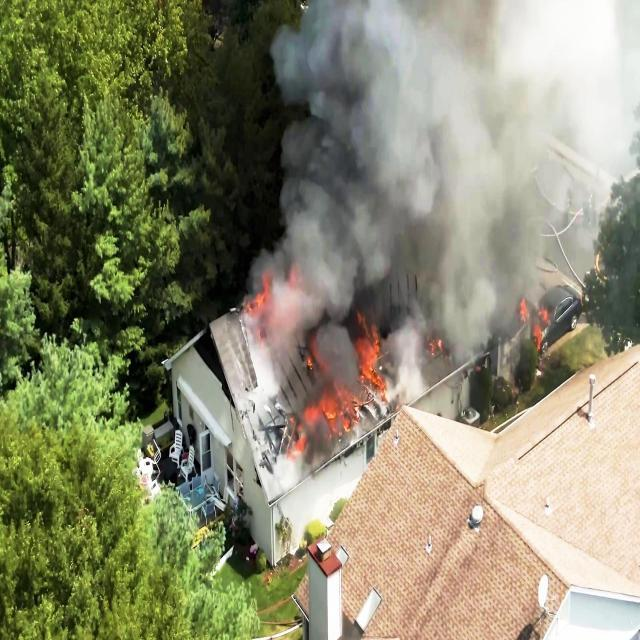Fire: (250, 266, 387, 462), (518, 286, 548, 352)
Smoke: (275, 0, 640, 265), (391, 271, 518, 396)
